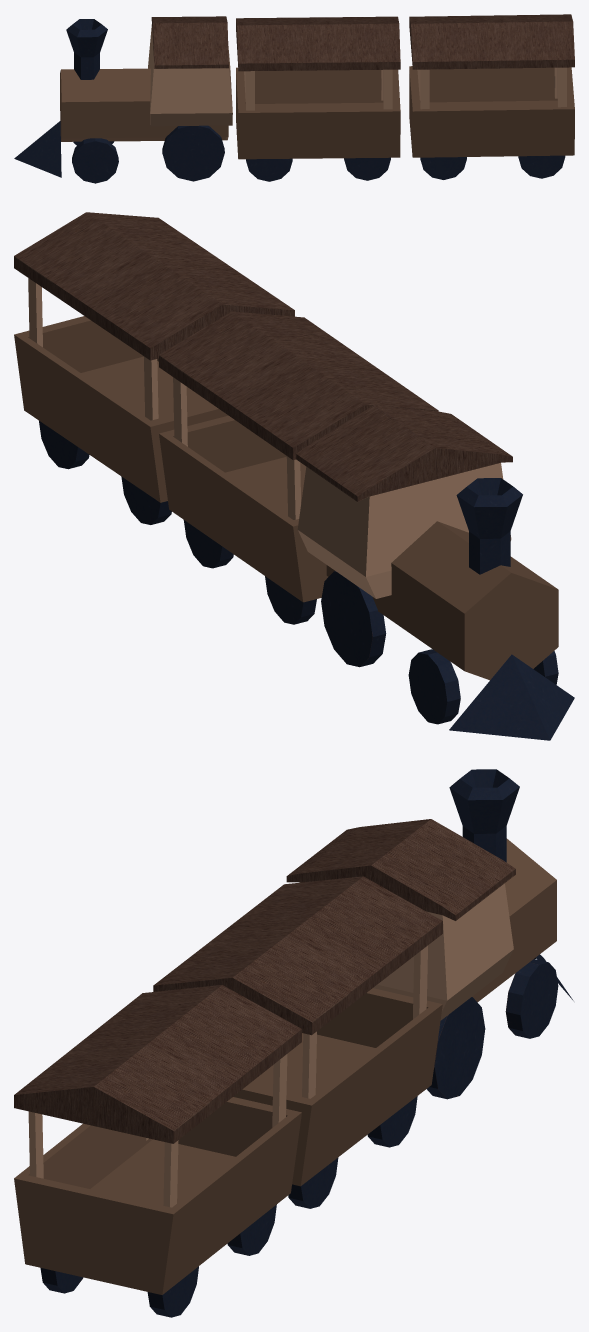
File: 3P_Train.glb
The picture shows the model from 3 angles, top to bottom: view 1: azimuth 30°, elevation 25°; view 2: azimuth 150°, elevation 25°; view 3: azimuth 270°, elevation 25°; orthographic projection. The views are drawn at different scales.
Visible parts, largest first — view 1: Train.Chasis.Car2, Train.Chasis.Car1, Train.Chasis.Engine; view 2: Train.Chasis.Engine, Train.Chasis.Car2, Train.Chasis.Car1; view 3: Train.Chasis.Car2, Train.Chasis.Car1, Train.Chasis.Engine.
Part boxes in pixels (left/top/right/bottom): Train.Chasis.Car2: left=409, top=14, right=574, bottom=179; Train.Chasis.Car1: left=236, top=16, right=400, bottom=181; Train.Chasis.Engine: left=14, top=16, right=232, bottom=183; Train.Chasis.Engine: left=296, top=405, right=574, bottom=740; Train.Chasis.Car2: left=14, top=212, right=294, bottom=524; Train.Chasis.Car1: left=159, top=311, right=438, bottom=624; Train.Chasis.Car2: left=14, top=985, right=301, bottom=1317; Train.Chasis.Car1: left=153, top=876, right=442, bottom=1208; Train.Chasis.Engine: left=286, top=769, right=573, bottom=1099.
Bounding box in the file's own units: 3.77 × 1.15 × 2.43.
Materials: 2 (2 with a texture image).
